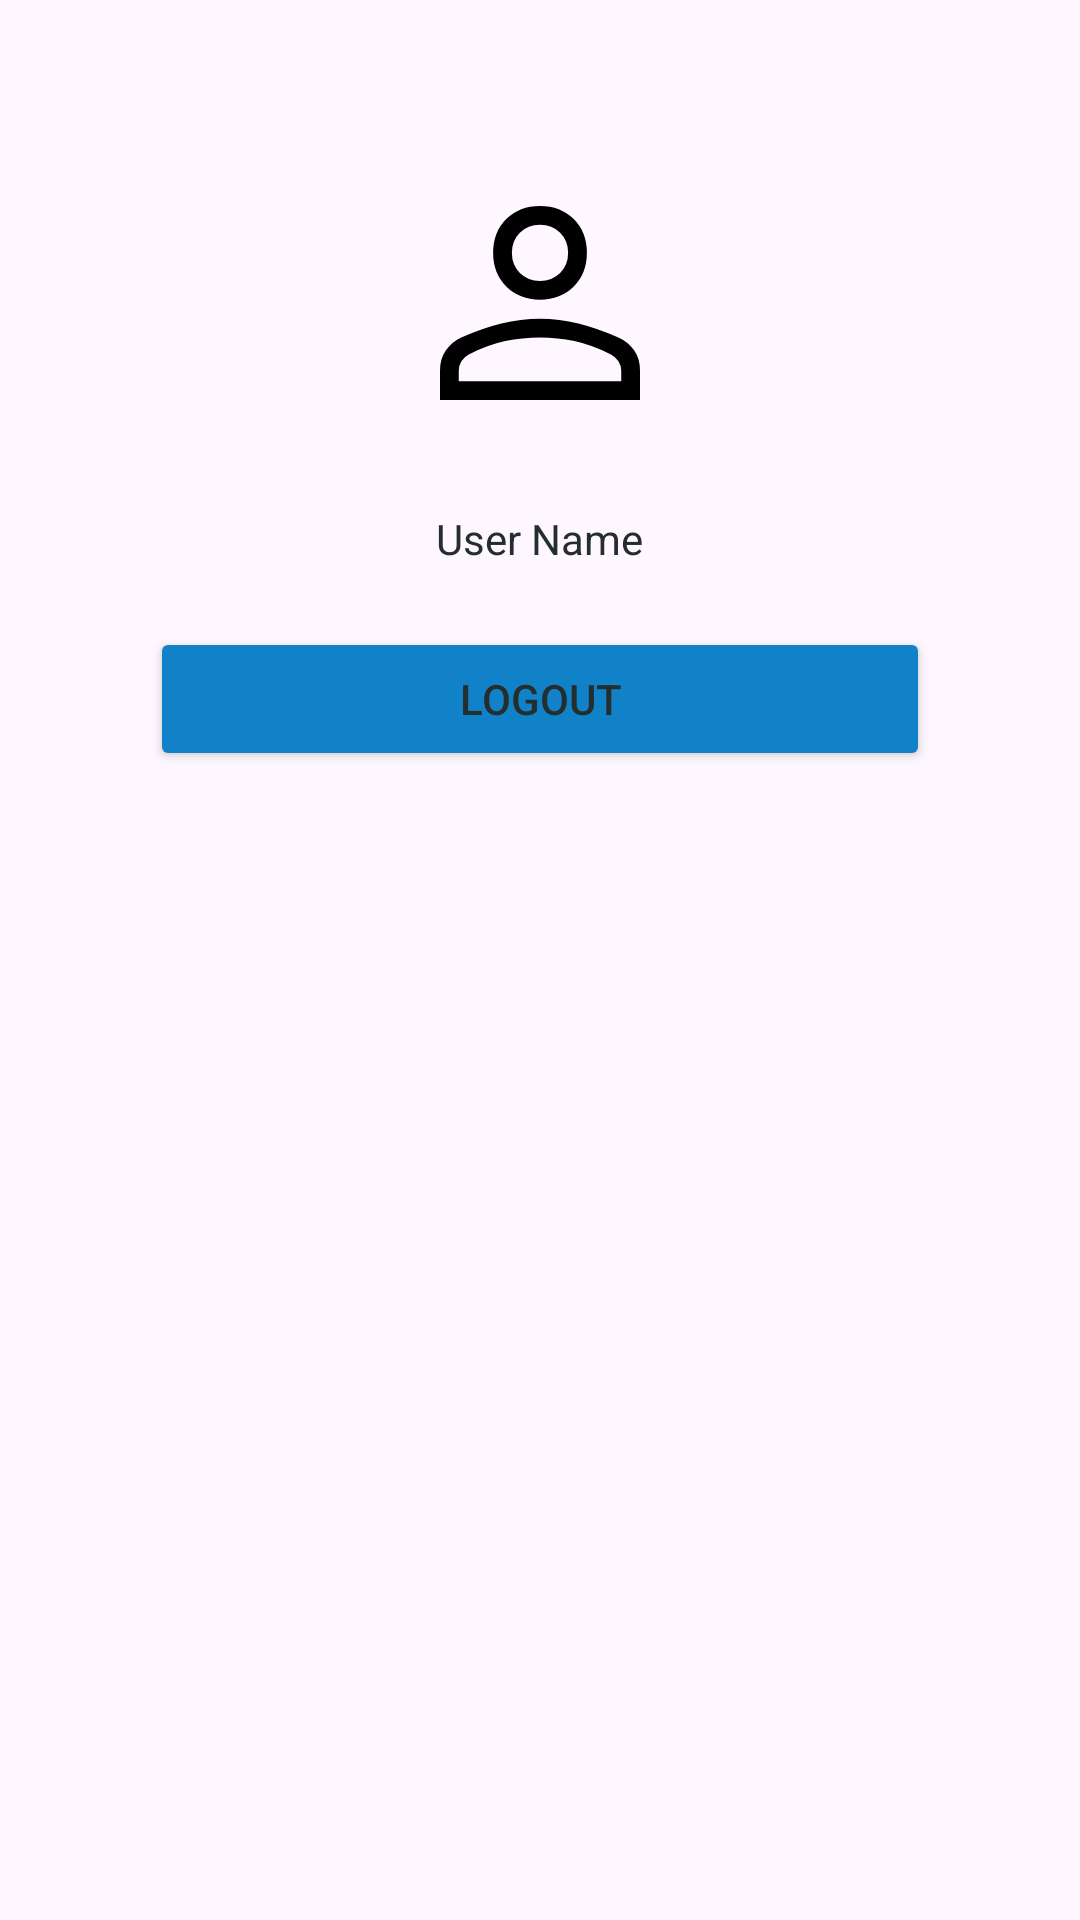

Where to tap for icons on this 1080 × 1920 app screen, as (x,y):
account: (540,303)
